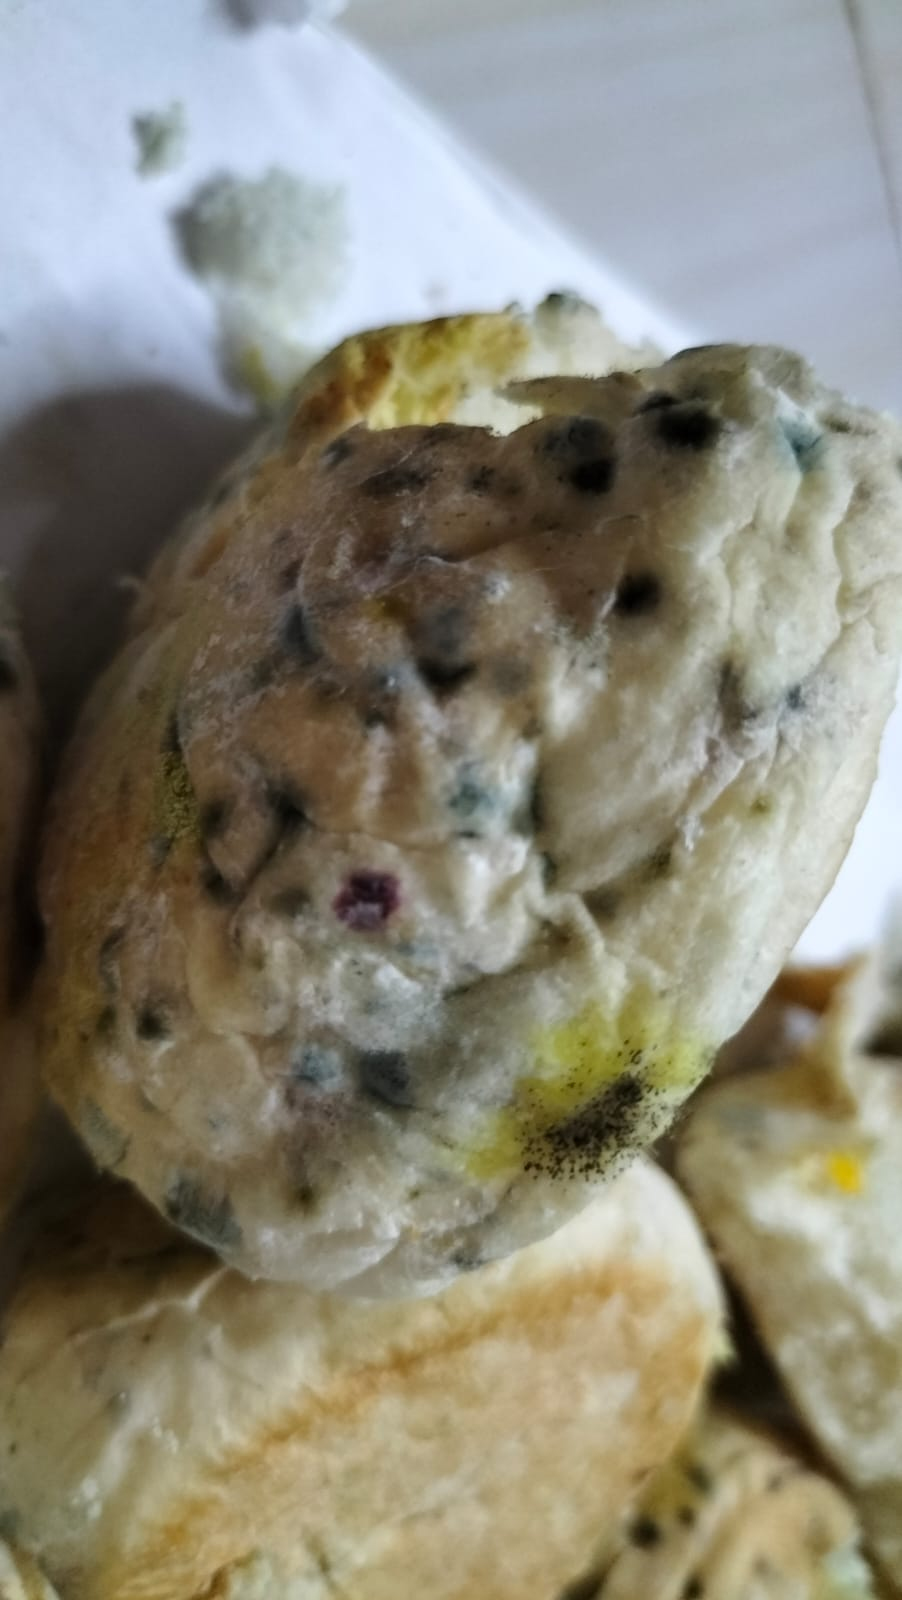mold_bread: (514, 1000, 695, 1230), (145, 749, 316, 922), (238, 591, 407, 732), (272, 1005, 427, 1130), (694, 643, 804, 771), (522, 397, 630, 525), (151, 1166, 260, 1260), (643, 375, 735, 470), (430, 746, 509, 855), (71, 999, 188, 1062), (332, 851, 407, 942), (358, 443, 448, 514), (609, 556, 673, 627), (766, 414, 835, 476)
